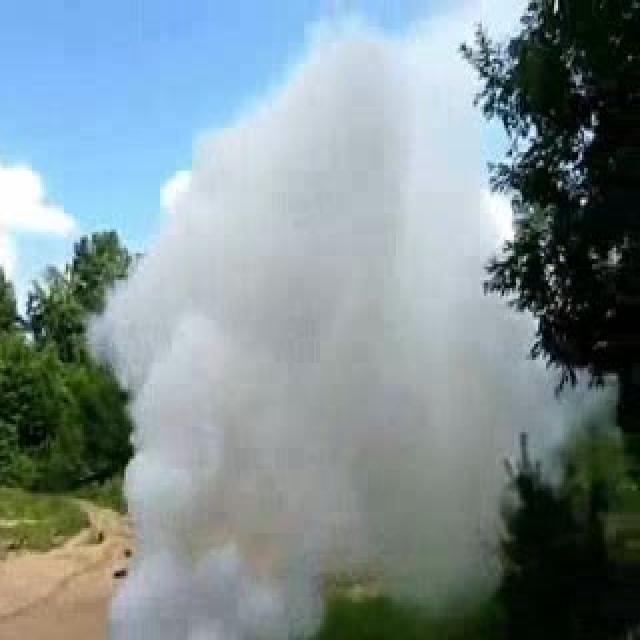Smoke: (84, 26, 544, 640)
